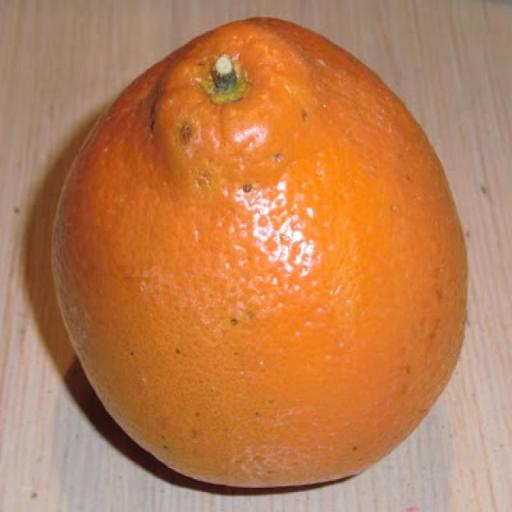fruit: (53, 20, 466, 486)
